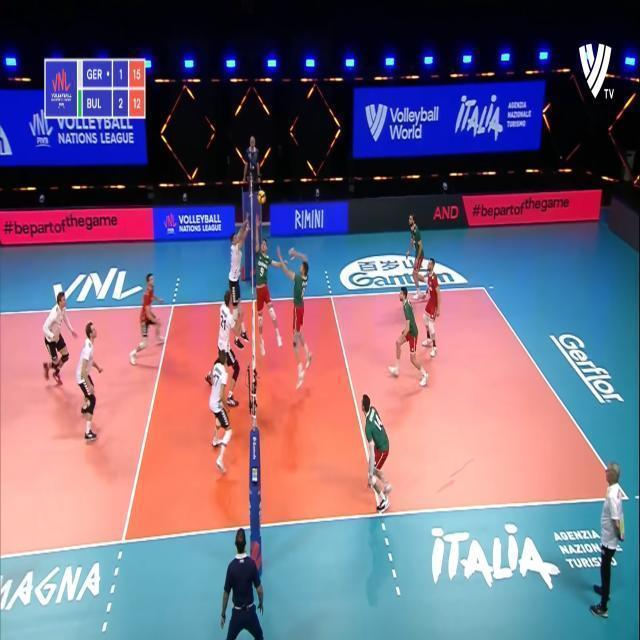volleyball: (257, 190, 266, 203)
